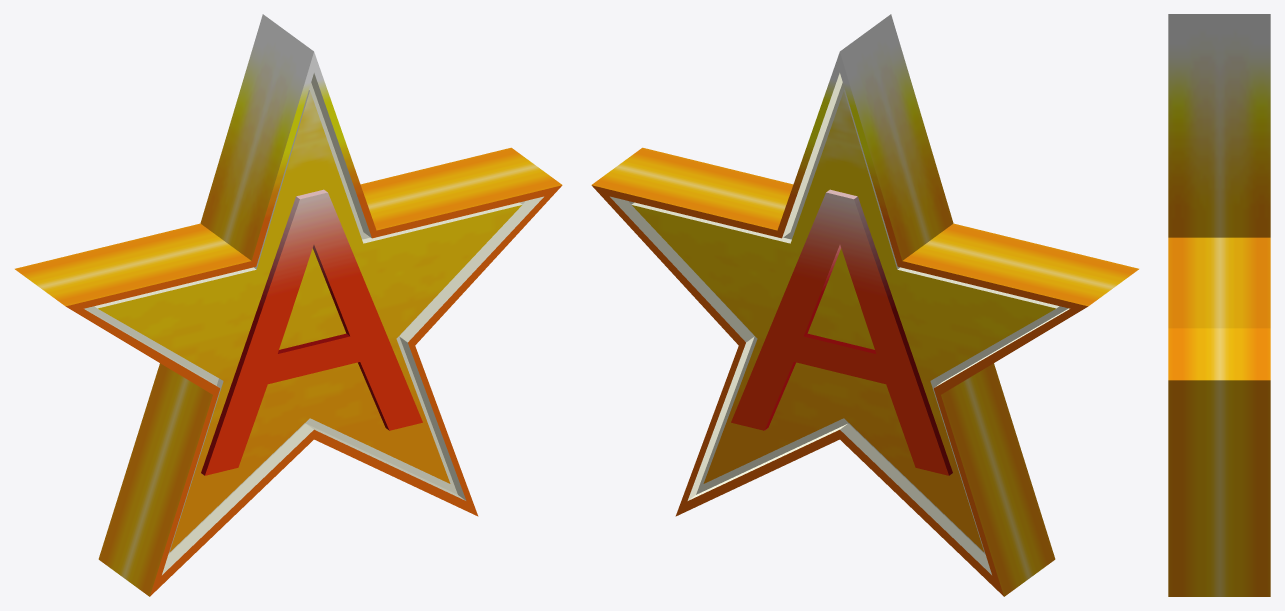
Rendered from game.ico.obj.
3 renders of one model, left to right at view 1: azimuth 30°, elevation 25°; view 2: azimuth 150°, elevation 25°; view 3: azimuth 270°, elevation 25°, orthographic.
Bounding box in the file's own units: 3.8 × 3.69 × 0.6782.
1 material, 1 textured.
